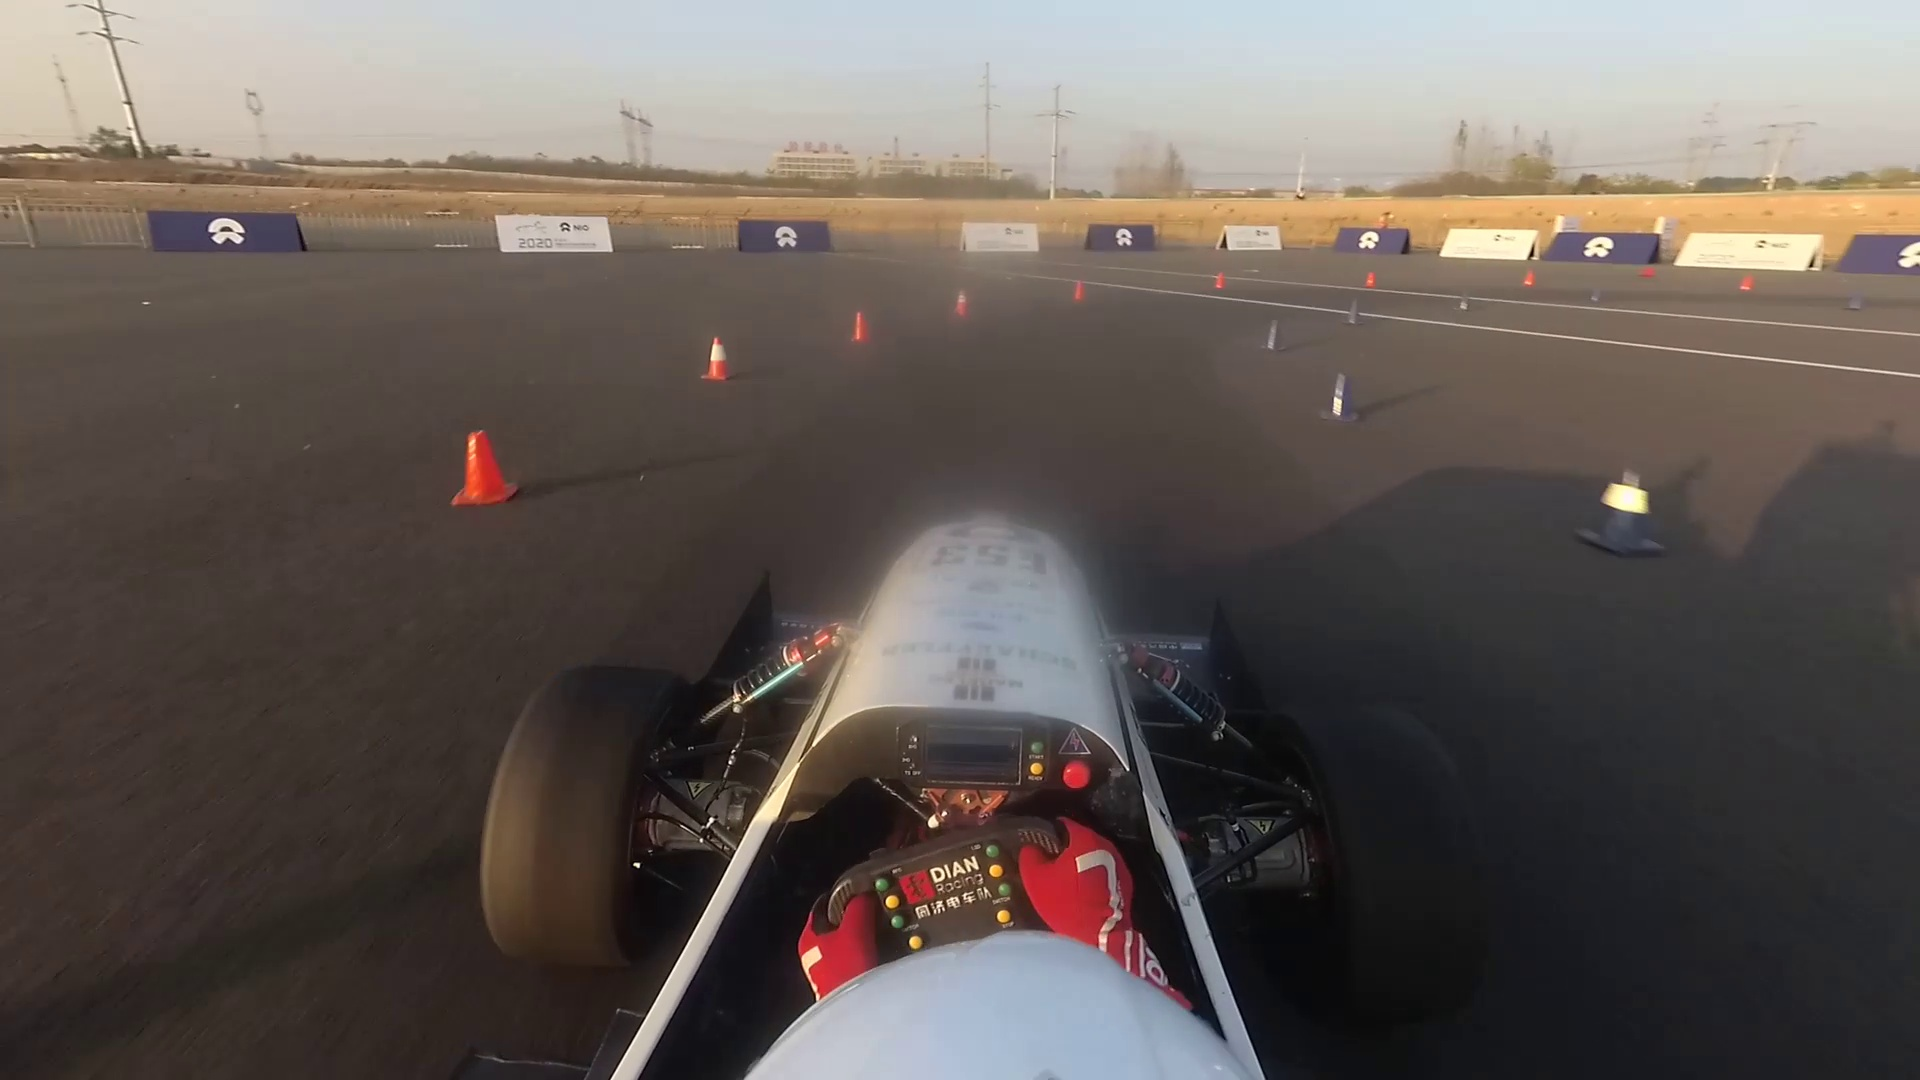blue_cone: (1582, 468, 1672, 558), (1324, 375, 1356, 419), (1261, 319, 1288, 356), (1846, 281, 1866, 319), (1344, 297, 1364, 326), (1455, 287, 1473, 314), (1585, 284, 1604, 303)
red_cone: (442, 426, 524, 502), (702, 330, 731, 378), (845, 309, 874, 345), (1734, 266, 1759, 295), (953, 287, 972, 316), (1072, 280, 1089, 303), (1360, 269, 1375, 287), (1636, 262, 1655, 278), (1215, 272, 1228, 290), (1523, 272, 1538, 287)
